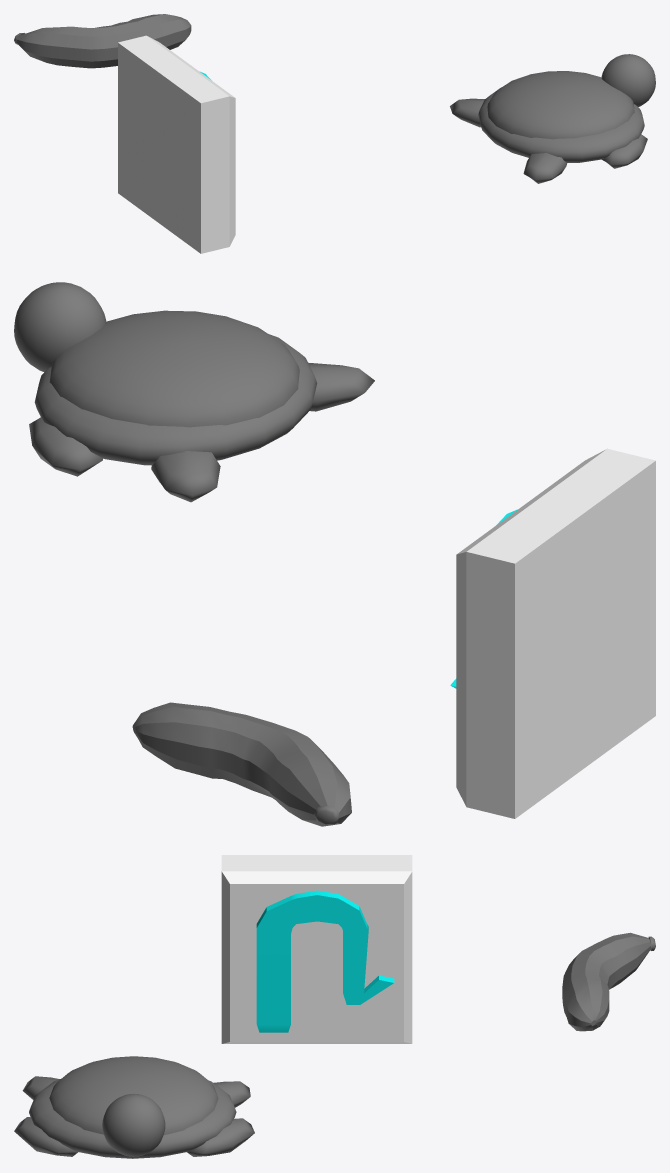
The model's file is PROJ_EasterEggsV3.fbx.
3 renders of one model, top to bottom at view 1: azimuth 30°, elevation 25°; view 2: azimuth 150°, elevation 25°; view 3: azimuth 270°, elevation 25°, orthographic. The views are drawn at different scales.
Parts seen in each view (by area): view 1: Glyph_Low10, Turtle10, Banana; view 2: Glyph_Low10, Turtle10, Banana; view 3: Glyph_Low10, Turtle10, Banana.
Part boxes in pixels (box(x1,y1,x2,y2)): Glyph_Low10: box(118, 35, 235, 253); Turtle10: box(450, 54, 655, 183); Banana: box(14, 14, 191, 68); Glyph_Low10: box(450, 448, 655, 818); Turtle10: box(14, 282, 374, 502); Banana: box(132, 702, 351, 826); Glyph_Low10: box(221, 855, 412, 1043); Turtle10: box(14, 1056, 254, 1158); Banana: box(562, 932, 655, 1031).
Bounding box in the file's own units: 2043 × 711 × 2393.
